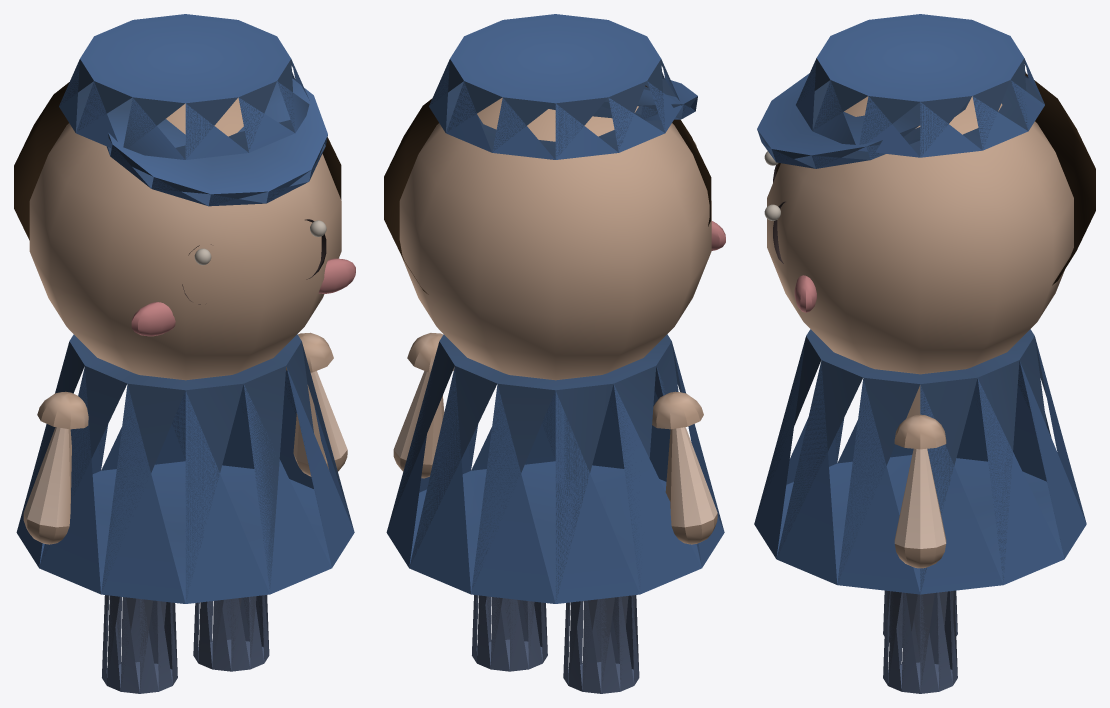
3 renders of one model, left to right at view 1: azimuth 30°, elevation 25°; view 2: azimuth 150°, elevation 25°; view 3: azimuth 270°, elevation 25°, orthographic.
Visible parts, largest first — view 1: pet_p745e02c8; view 2: pet_p745e02c8; view 3: pet_p745e02c8.
Boxes of the visible parts, <box> form: pet_p745e02c8: <box>14,14,355,693</box>; pet_p745e02c8: <box>384,14,725,693</box>; pet_p745e02c8: <box>754,14,1095,693</box>.
Bounding box in the file's own units: 0.3464 × 0.635 × 0.3287.
